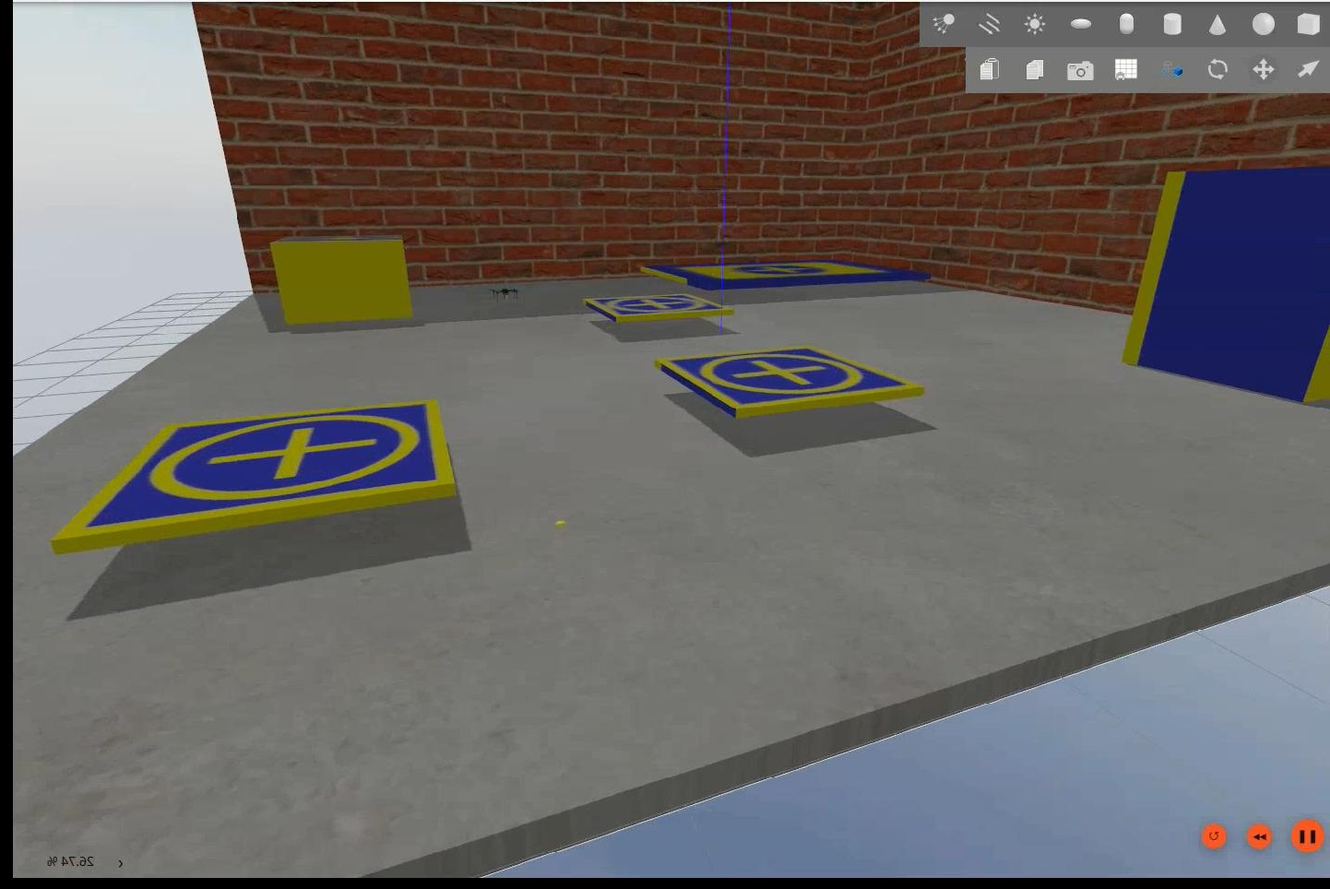large_base: (636, 258, 929, 297)
small_base: (56, 397, 458, 561), (648, 345, 919, 424), (580, 290, 731, 330)
